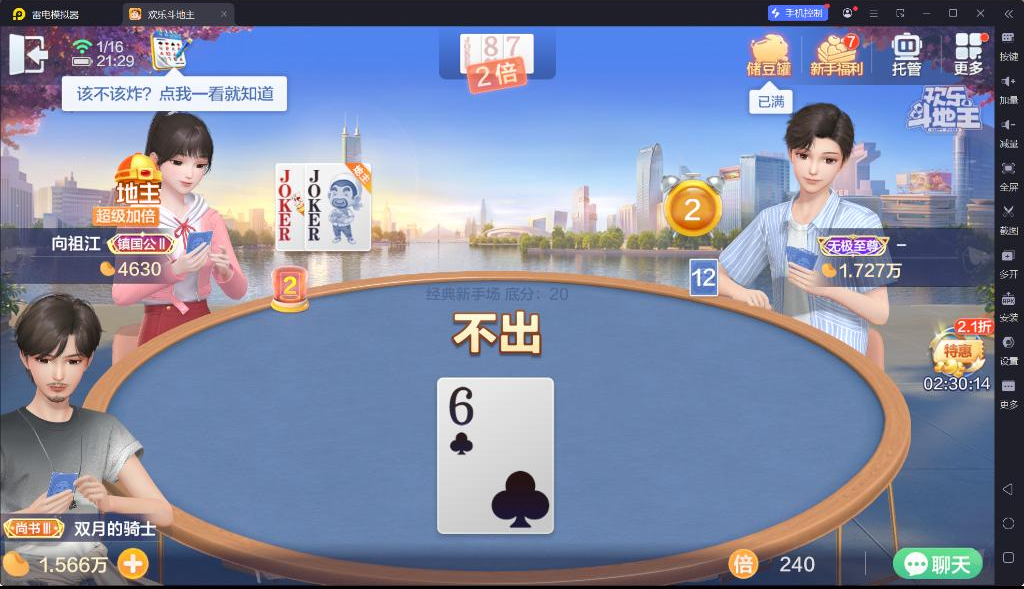JOKER: (277, 167, 293, 215), (462, 36, 476, 58)
eight: (483, 35, 500, 57)
joker: (306, 168, 322, 215)
seven: (505, 35, 521, 56)
six: (445, 385, 476, 428)
